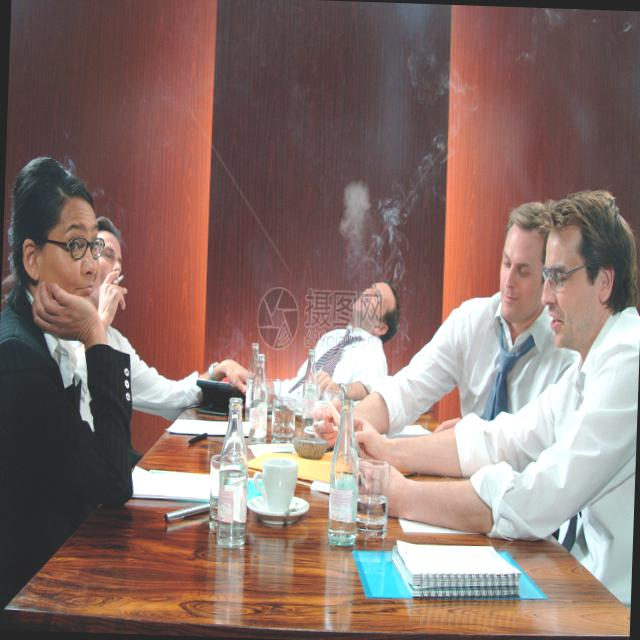smoke: (109, 270, 127, 286), (310, 416, 331, 428)
